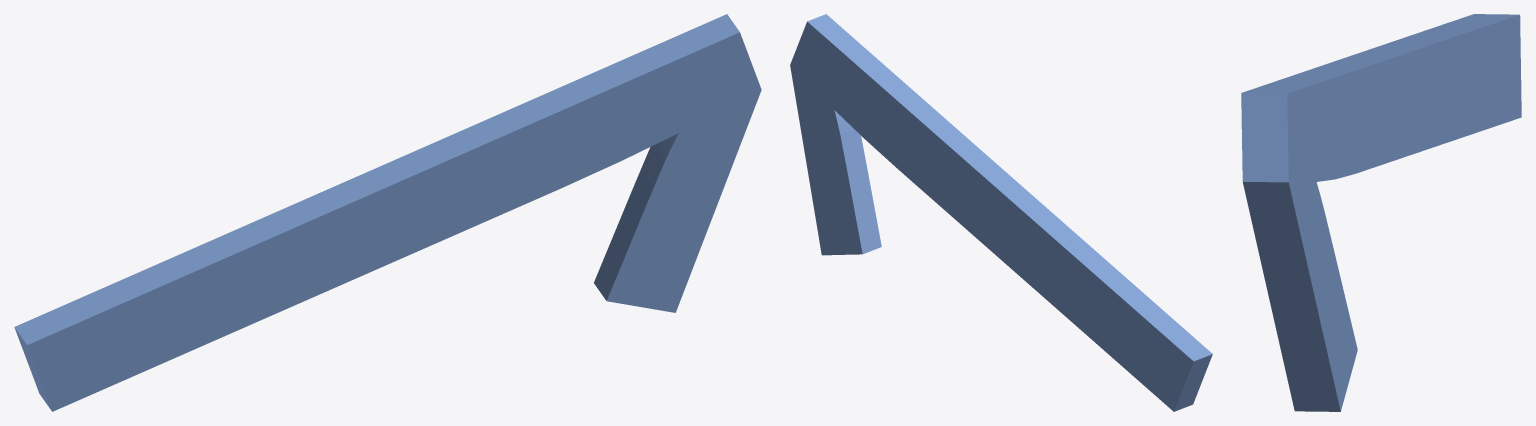
File: New_Number_1.gltf
The picture shows the model from 3 angles, left to right: view 1: azimuth 30°, elevation 25°; view 2: azimuth 150°, elevation 25°; view 3: azimuth 270°, elevation 25°; orthographic projection. The views are drawn at different scales.
Visible parts, largest first — view 1: Part 460; view 2: Part 460; view 3: Part 460.
Part boxes in pixels (x1,y1,x2,y2): Part 460: [14, 14, 761, 411]; Part 460: [790, 14, 1212, 411]; Part 460: [1241, 14, 1521, 411].
Size of the model in its own units: 0.0048 by 0.00221 by 0.00152.
